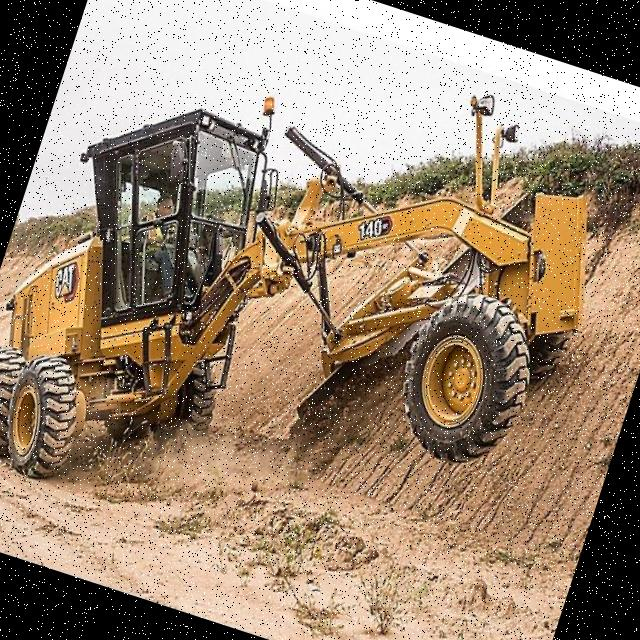Grader: (0, 9, 621, 621)
